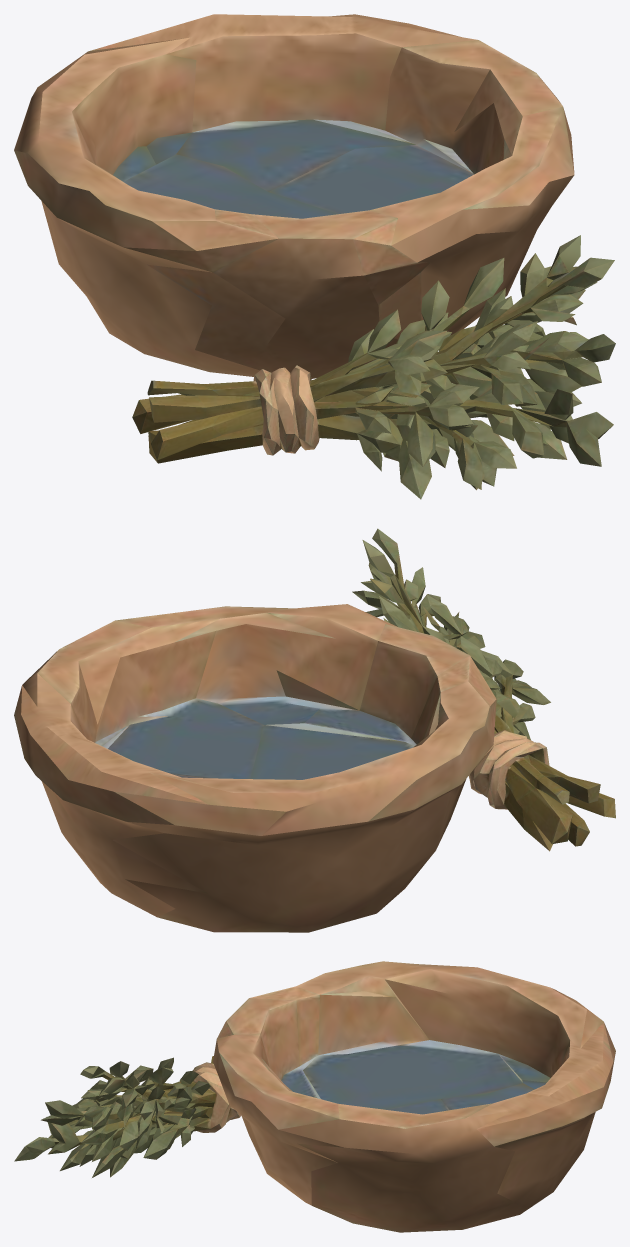
File: hyssop-basin.glb
The picture shows the model from 3 angles, top to bottom: view 1: azimuth 30°, elevation 25°; view 2: azimuth 150°, elevation 25°; view 3: azimuth 270°, elevation 25°; orthographic projection. The views are drawn at different scales.
Bounding box in the file's own units: 1.37 × 0.5255 × 1.9.
Materials: 1 (1 with a texture image).
